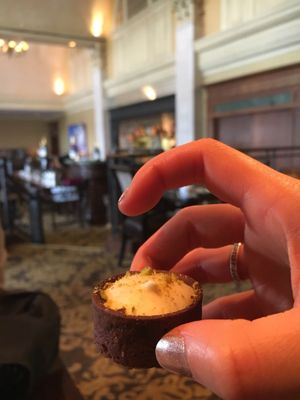sushi: (91, 264, 206, 370)
